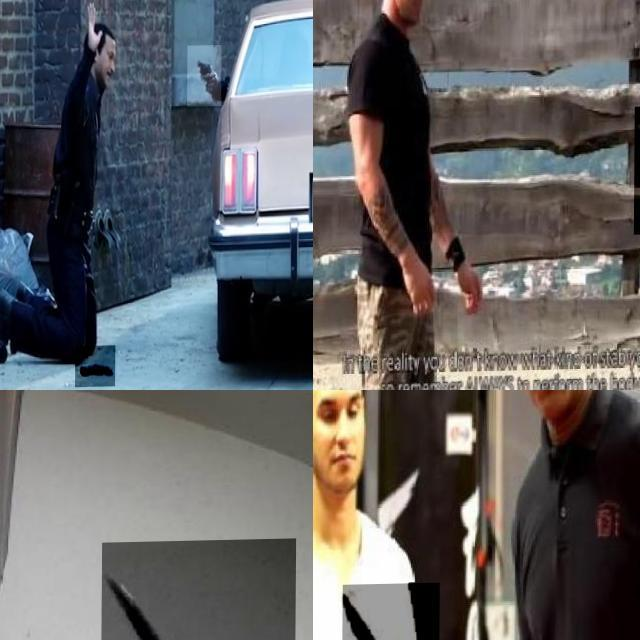-: (100, 540, 296, 640), (342, 583, 440, 640)
gun-knife-thesis - v11 Yolov5 augmented: (188, 46, 222, 108), (76, 346, 116, 388)
